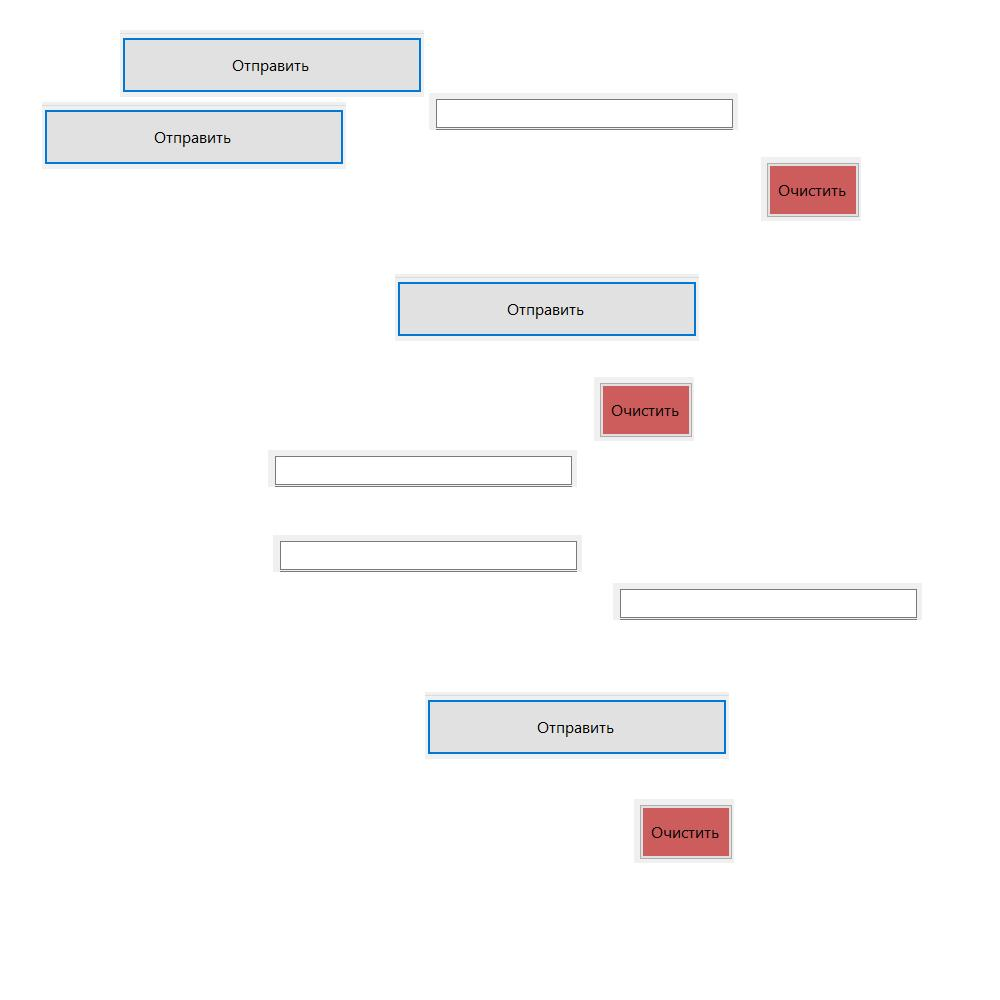Button: (425, 692, 729, 759), (395, 274, 699, 341), (42, 102, 346, 169), (120, 30, 424, 97), (761, 157, 861, 221), (594, 377, 694, 441), (634, 799, 734, 863)
EditText-: (613, 583, 922, 620), (268, 450, 577, 487), (273, 535, 582, 572), (429, 93, 738, 130)
